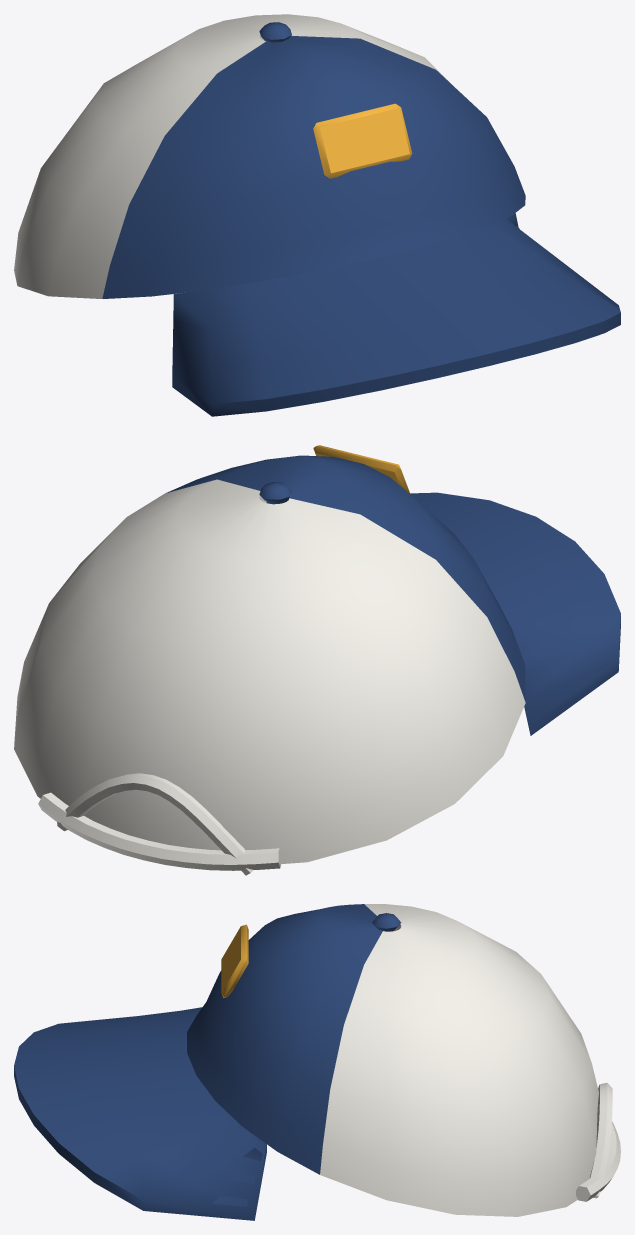
Rendered from Char_Hat_TruckerCap.fbx.
The picture shows the model from 3 angles, top to bottom: view 1: azimuth 30°, elevation 25°; view 2: azimuth 150°, elevation 25°; view 3: azimuth 270°, elevation 25°; orthographic projection. The views are drawn at different scales.
Visible parts, largest first — view 1: Crown, Mesh, Patch; view 2: Mesh, Crown, Patch; view 3: Mesh, Crown, Patch.
Boxes of the visible parts, left/top/right/bottom form: Crown: left=102, top=22, right=620, bottom=416; Mesh: left=14, top=14, right=450, bottom=298; Patch: left=313, top=103, right=412, bottom=178; Mesh: left=14, top=479, right=525, bottom=875; Crown: left=166, top=455, right=620, bottom=735; Patch: left=313, top=445, right=410, bottom=494; Mesh: left=320, top=904, right=620, bottom=1216; Crown: left=14, top=904, right=401, bottom=1220; Patch: left=221, top=924, right=248, bottom=997.
Bounding box in the file's own units: 155 × 91.55 × 206.
